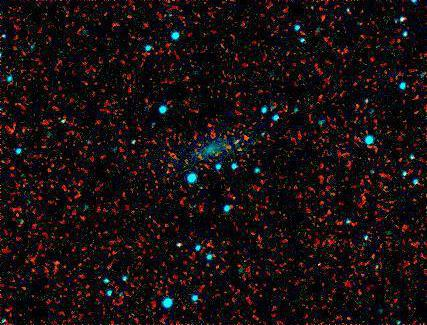star: (227, 135, 257, 165)
